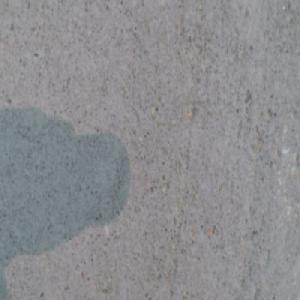Washer: (104, 286, 126, 300)
